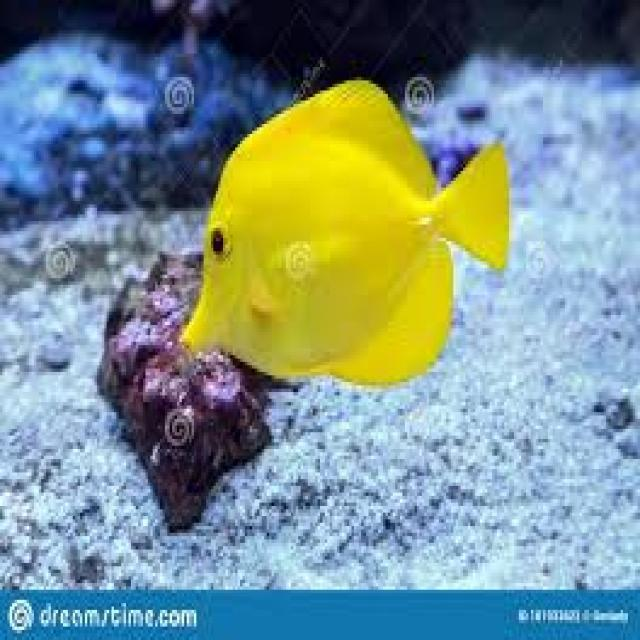TangFish: (176, 76, 511, 383)
